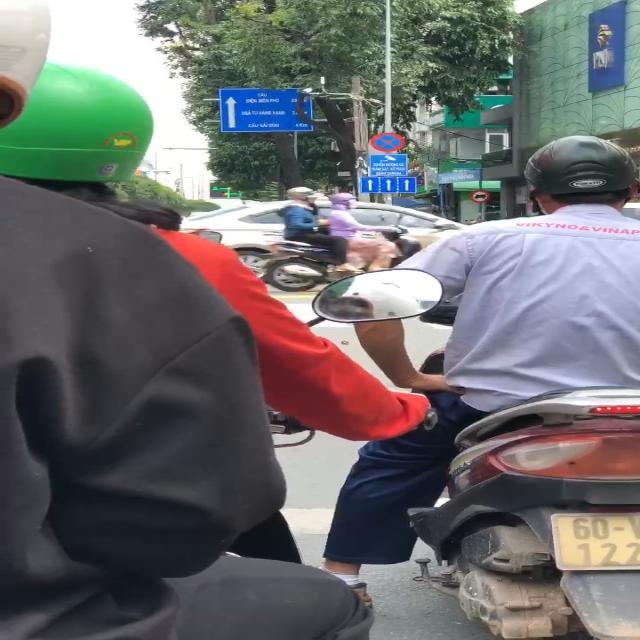Bien bao cam dung xe va do xe: (369, 130, 408, 153)
